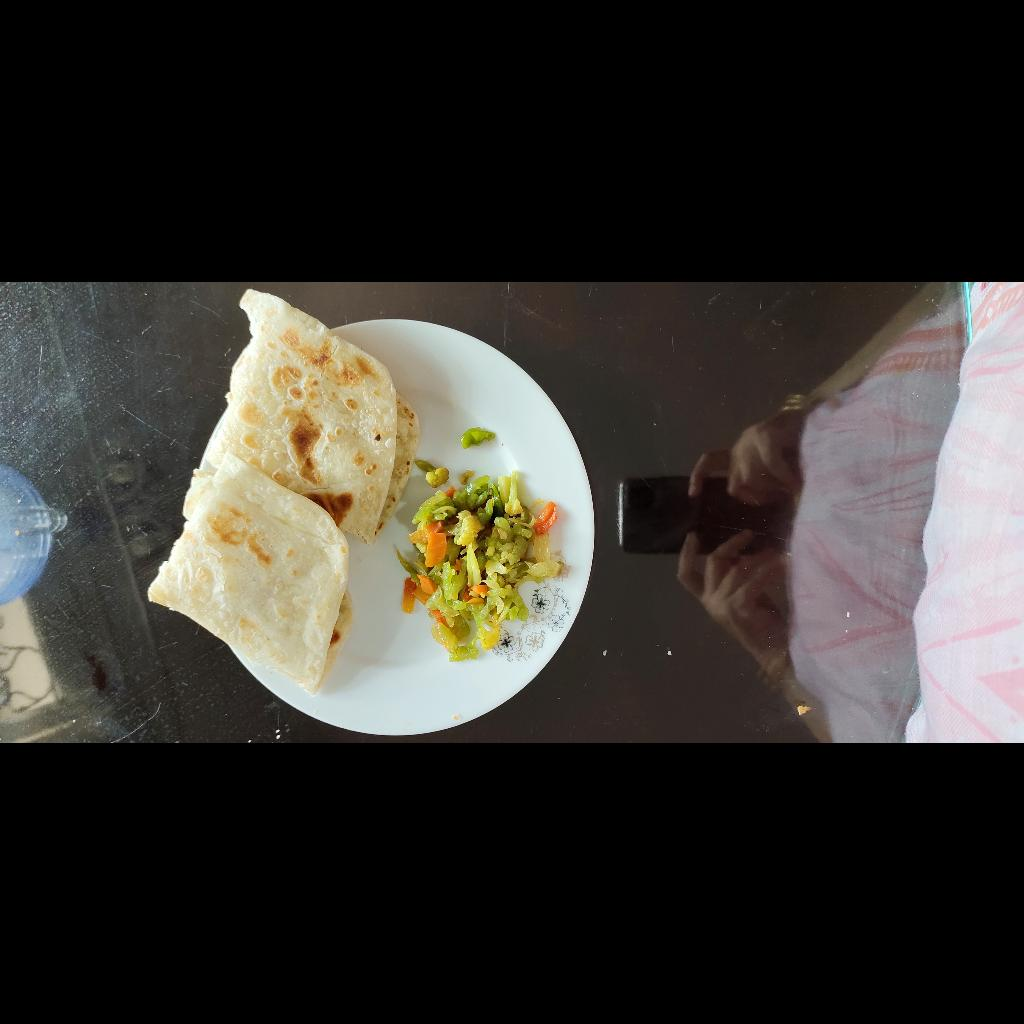ruti: (48, 424, 459, 699)
vegetable: (83, 672, 283, 844)
